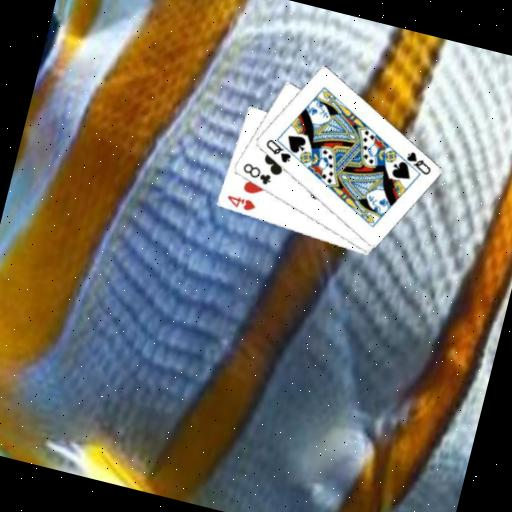4H: (222, 191, 258, 214)
8C: (237, 159, 275, 188)
QS: (260, 135, 296, 166), (400, 147, 436, 178)
